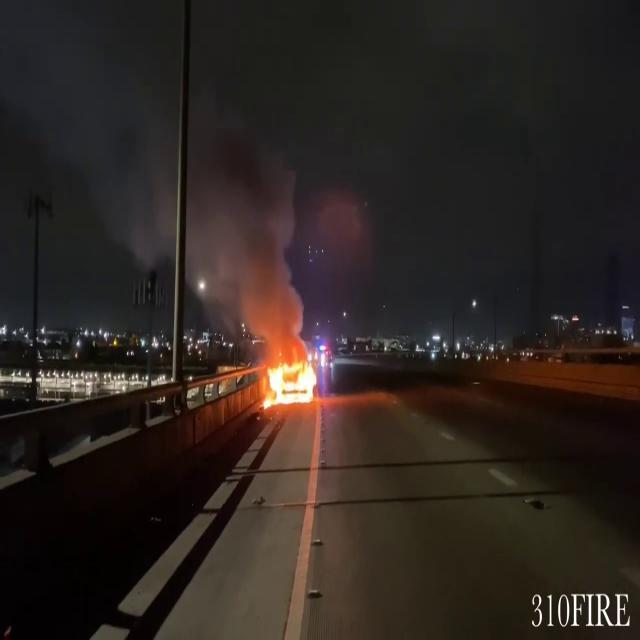Fire: (258, 348, 328, 410)
Smoke: (81, 0, 306, 334)
